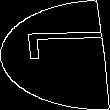L_E: (6, 38, 104, 72)
